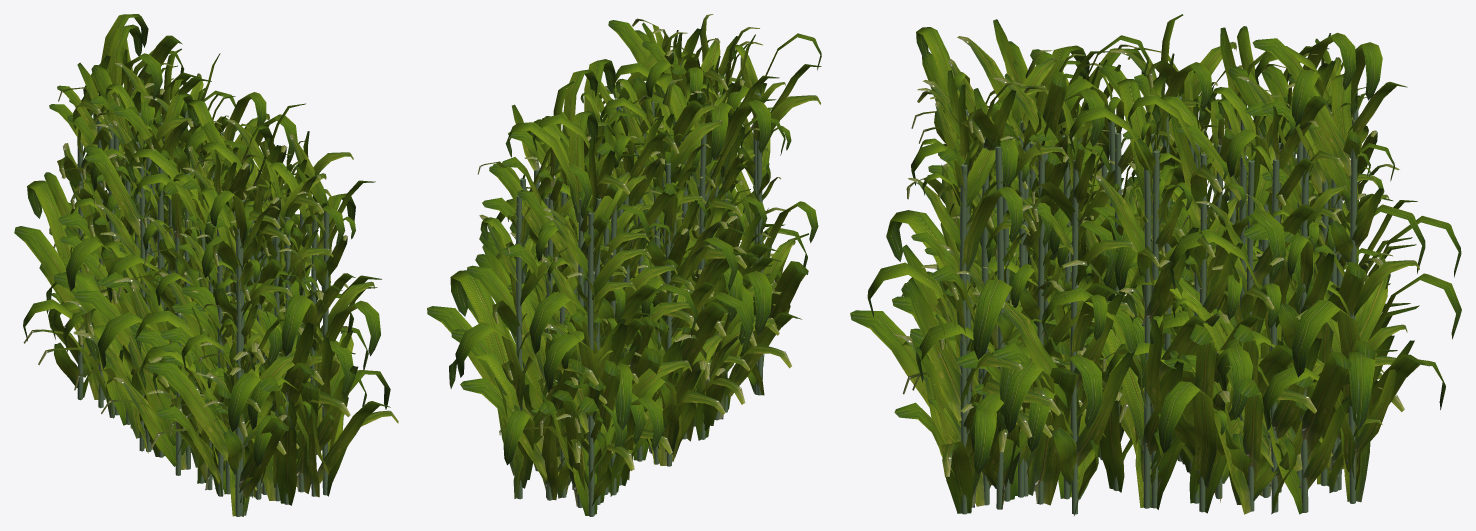
The model's file is milharal3x9_denso5.fbx.
The picture shows the model from 3 angles, left to right: view 1: azimuth 30°, elevation 25°; view 2: azimuth 150°, elevation 25°; view 3: azimuth 270°, elevation 25°; orthographic projection. The views are drawn at different scales.
Visible parts, largest first — view 1: Plantacao2; view 2: Plantacao2; view 3: Plantacao2.
Part boxes in pixels (left/top/right/bottom): Plantacao2: left=14, top=14, right=398, bottom=516; Plantacao2: left=427, top=14, right=821, bottom=516; Plantacao2: left=850, top=14, right=1461, bottom=515.
Bounding box in the file's own units: 760 × 1130 × 1371.
